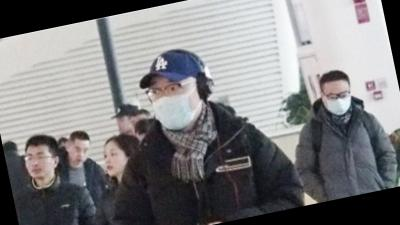with_mask: (145, 71, 206, 135), (324, 86, 356, 118)
without_mask: (23, 148, 55, 181), (101, 144, 131, 177), (66, 143, 93, 170)
